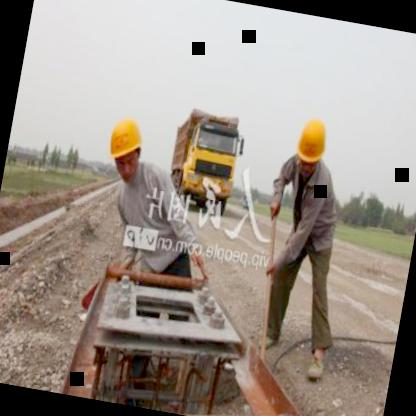helmet: (98, 105, 152, 189), (289, 107, 334, 182)
